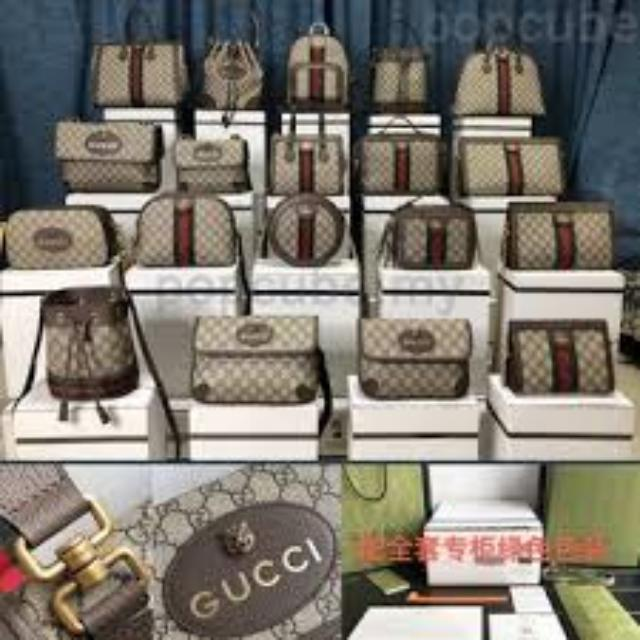Gucci: (151, 516, 353, 634), (228, 318, 290, 354), (83, 125, 129, 155), (30, 224, 76, 253), (395, 326, 441, 350), (544, 207, 584, 233), (190, 138, 230, 164), (291, 202, 331, 226), (496, 133, 528, 163), (424, 212, 454, 236), (548, 328, 580, 348), (172, 193, 202, 213), (310, 30, 332, 54), (392, 136, 418, 154), (292, 138, 321, 152)
